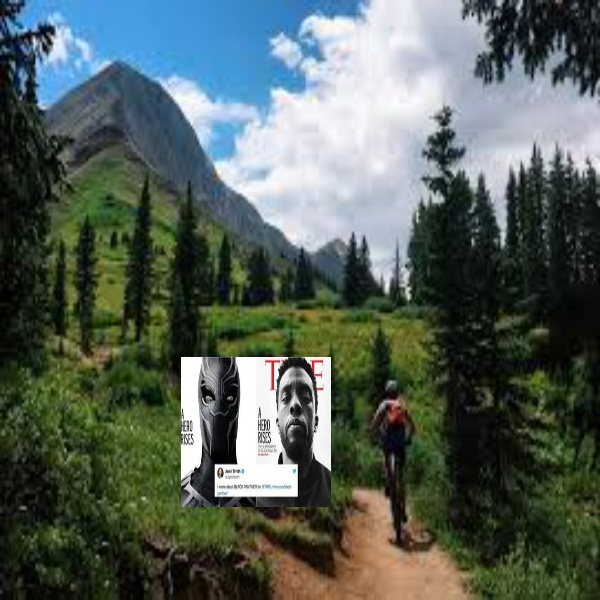time_cover: (180, 357, 330, 509)
